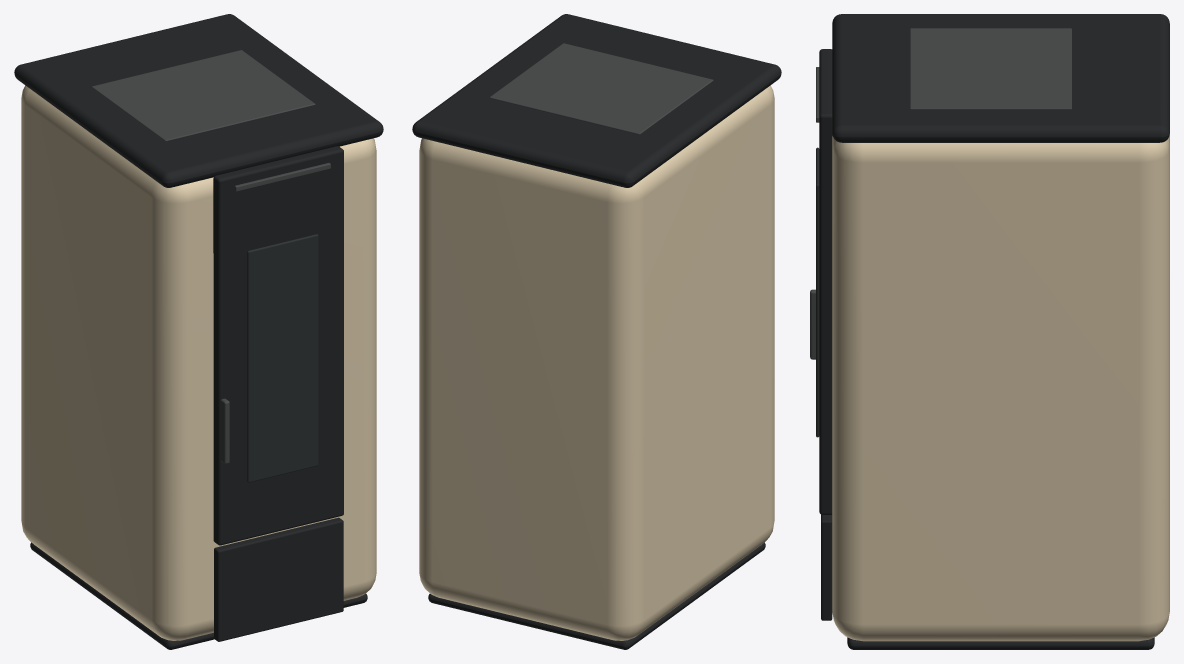
Rendered from nordica-miriana-idro-h20-avorio.glb.
3 views of the same model, side by side, from view 1: azimuth 30°, elevation 25°; view 2: azimuth 150°, elevation 25°; view 3: azimuth 270°, elevation 25° (orthographic). The views are drawn at different scales.
Parts seen in each view (by area): view 1: Corpo arrotondato, Pannello porta, Coperchio superiore, Vetro porta, Pannello inferiore, Bocchetta superiore, Zoccolo, Fessura aria, Maniglia; view 2: Corpo arrotondato, Coperchio superiore, Bocchetta superiore, Zoccolo; view 3: Corpo arrotondato, Coperchio superiore, Bocchetta superiore, Pannello porta, Zoccolo, Pannello inferiore, Vetro porta.
Boxes of the visible parts, left/top/right/bottom form: Corpo arrotondato: left=21, top=85, right=376, bottom=640; Pannello porta: left=213, top=146, right=343, bottom=545; Coperchio superiore: left=14, top=14, right=383, bottom=187; Vetro porta: left=247, top=234, right=318, bottom=482; Pannello inferiore: left=214, top=517, right=343, bottom=641; Bocchetta superiore: left=91, top=50, right=315, bottom=141; Zoccolo: left=30, top=542, right=367, bottom=649; Fessura aria: left=234, top=163, right=330, bottom=191; Maniglia: left=220, top=398, right=229, bottom=463; Corpo arrotondato: left=419, top=85, right=774, bottom=640; Coperchio superiore: left=412, top=14, right=781, bottom=187; Bocchetta superiore: left=489, top=43, right=713, bottom=134; Zoccolo: left=428, top=542, right=765, bottom=649; Corpo arrotondato: left=832, top=134, right=1169, bottom=641; Coperchio superiore: left=832, top=14, right=1169, bottom=142; Bocchetta superiore: left=910, top=28, right=1071, bottom=109; Pannello porta: left=819, top=49, right=832, bottom=514; Zoccolo: left=847, top=637, right=1154, bottom=649; Pannello inferiore: left=821, top=514, right=832, bottom=620; Vetro porta: left=816, top=147, right=819, bottom=437.
Bounding box in the file's own units: 0.599 × 1.25 × 0.7715.
